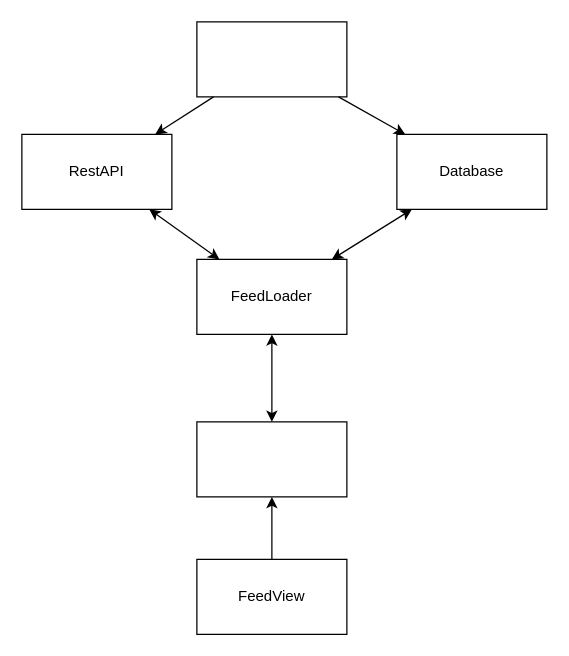
Image size: 569x656. Some labels were removed from this diagram. The centre of each missing label's shape, as x and y in pixels:
"MAIN" goes at (x=271, y=59).
"UI" goes at (x=271, y=459).
